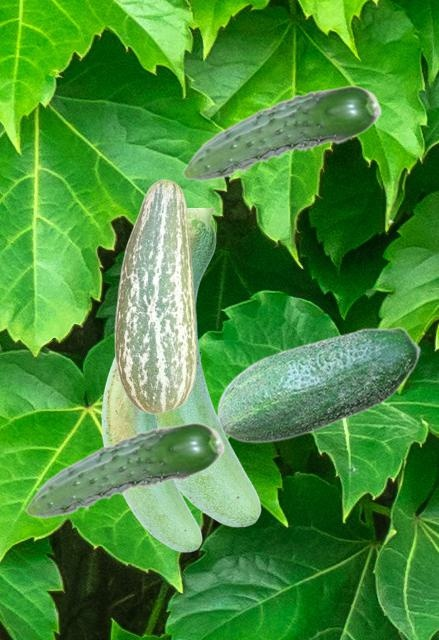cucumber: (157, 208, 260, 526), (216, 326, 420, 442), (101, 358, 201, 551), (114, 179, 196, 413), (182, 85, 381, 180), (25, 422, 224, 517)
